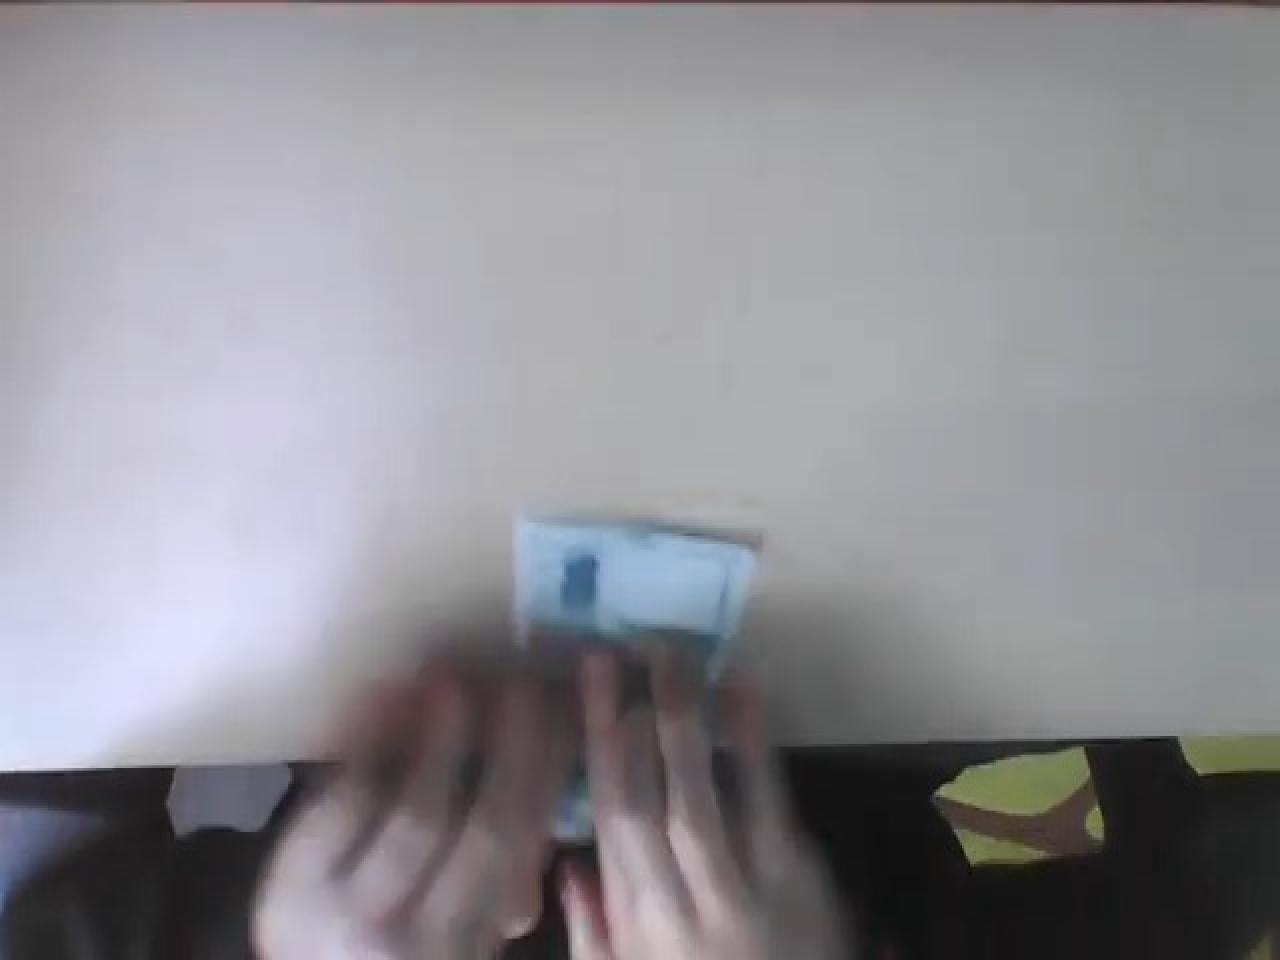100leva: (508, 517, 760, 683)
